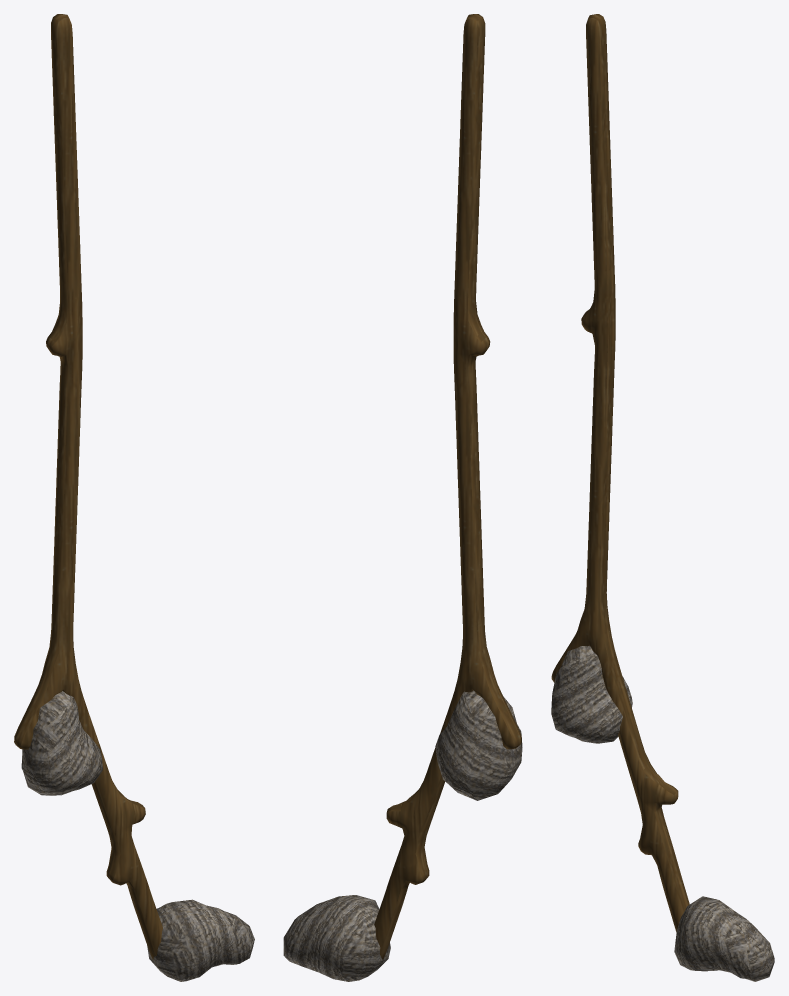
The model's file is Stick Club.glb.
3 views of the same model, side by side, from view 1: azimuth 30°, elevation 25°; view 2: azimuth 150°, elevation 25°; view 3: azimuth 330°, elevation 25° (orthographic). The views are drawn at different scales.
Parts seen in each view (by area): view 1: Stick Club.001; view 2: Stick Club.001; view 3: Stick Club.001.
Boxes of the visible parts, x1,y1,x2,y2 form: Stick Club.001: (14,14,254,981); Stick Club.001: (283,14,522,981); Stick Club.001: (551,14,774,981).
Bounding box in the file's own units: 0.2255 × 0.9151 × 0.0726.
2 materials, 2 textured.
